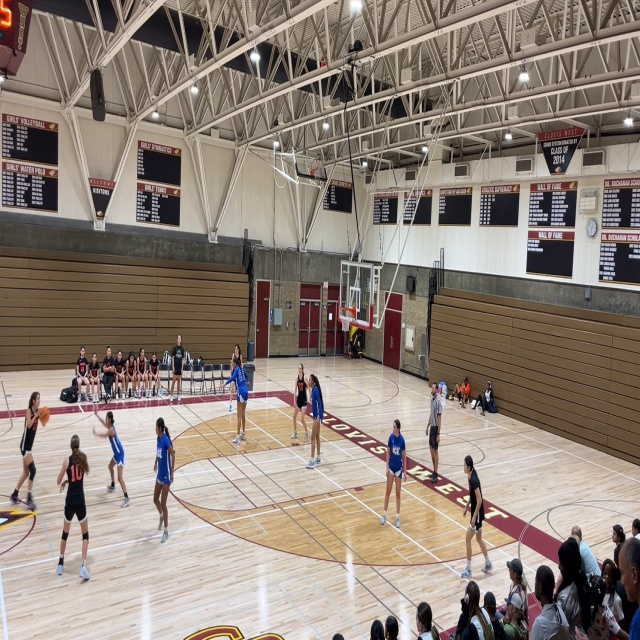Basketball: (38, 407, 50, 425)
